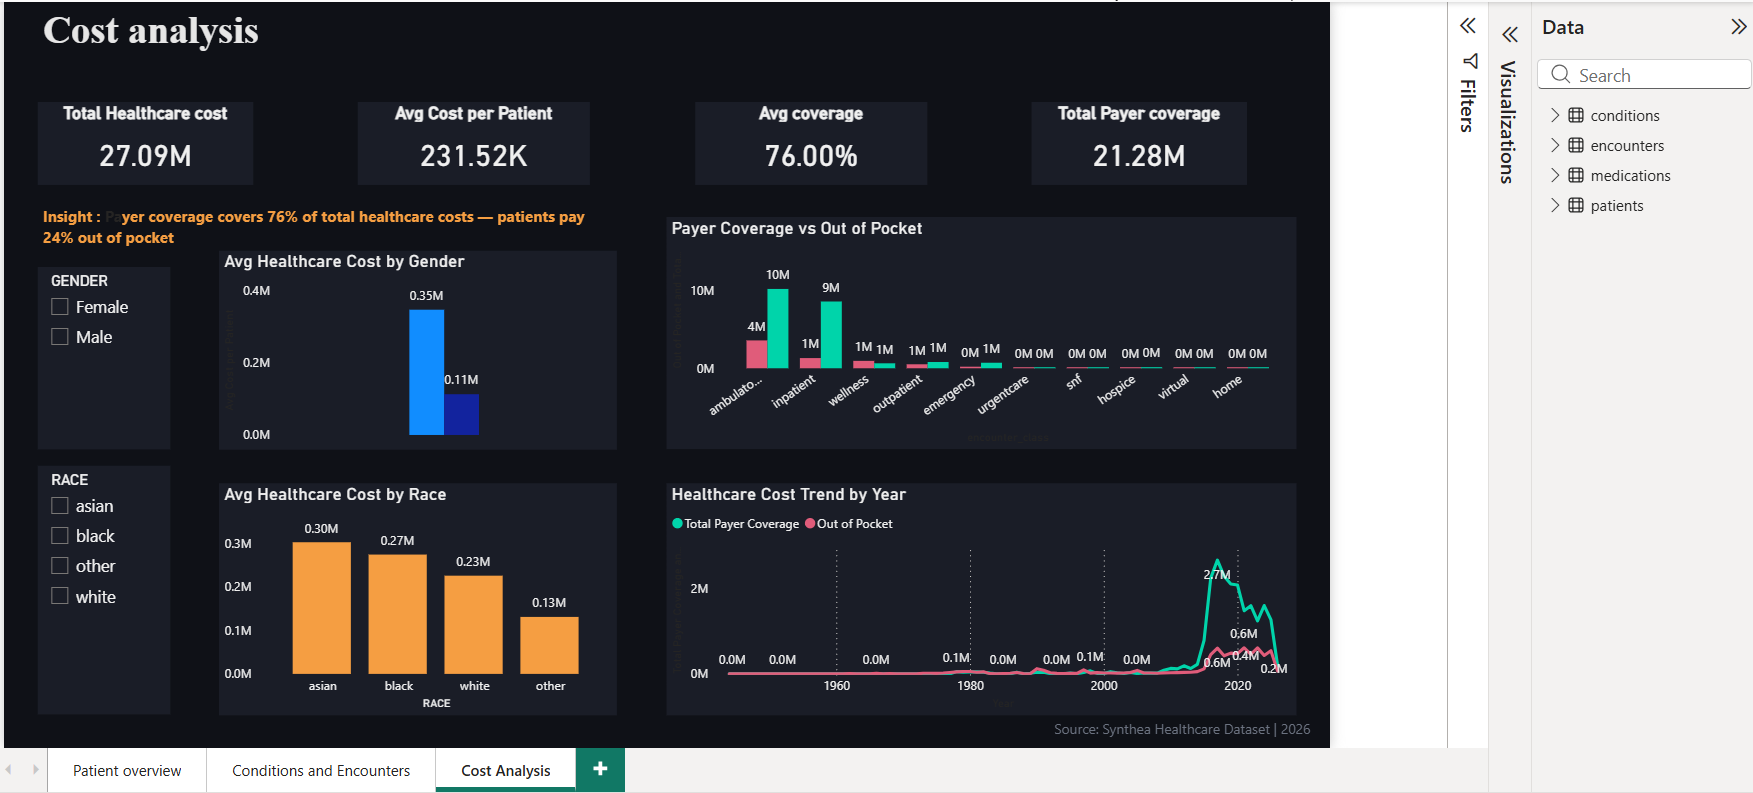

The page's visual inventory and layout, read from the dashboard file:
{"tool":"powerbi","page":{"name":"Cost Analysis","canvas":[1280,720],"ordinal":2},"visuals":[{"type":"textbox","box":[32,0,432,64],"z":0},{"type":"card","title":"Total Healthcare cost","fields":{"Values":["encounters.Total Healthcare Cost"]},"box":[32,96,208,80],"z":1000},{"type":"card","title":"Avg Cost per Patient","fields":{"Values":["encounters.Avg Cost per Patient"]},"box":[341.3,96,224,80],"z":2000},{"type":"card","title":"Total Payer coverage","fields":{"Values":["encounters.Total Payer Coverage"]},"box":[992,96,208,80],"z":3000},{"type":"card","title":"Avg coverage","fields":{"Values":["encounters.Avg Coverage %"]},"box":[666.7,96,224,80],"z":4000},{"type":"clusteredColumnChart","title":"Avg Healthcare Cost by Gender","fields":{"Y":["encounters.Avg Cost per Patient"],"Series":["patients.GENDER"]},"box":[208,240,384,192],"z":5000},{"type":"columnChart","title":"Avg Healthcare Cost by Race","fields":{"Y":["encounters.Avg Cost per Patient"],"Category":["patients.RACE"]},"box":[208,464,384,224],"z":6000},{"type":"clusteredColumnChart","title":"Payer Coverage vs Out of Pocket","fields":{"Y":["encounters.Out of Pocket","encounters.Total Payer Coverage"],"Category":["encounters.encounter_class"]},"box":[640,208,608,224],"z":7000},{"type":"lineChart","title":"Healthcare Cost Trend by Year","fields":{"Category":["encounters.visit_start.Variation.Date Hierarchy.Year"],"Y":["encounters.Total Payer Coverage","encounters.Out of Pocket"]},"box":[640,464,608,224],"z":8000},{"type":"textbox","box":[32,192,560,80],"z":11000},{"type":"textbox","box":[1008,688,272,32],"z":11001},{"type":"slicer","fields":{"Values":["patients.RACE"]},"box":[32,448,128,240],"z":11002},{"type":"slicer","fields":{"Values":["patients.GENDER"]},"box":[32,256,128,176],"z":11003}]}

Visuals, with their boxes on the page's 1280x720 design canvas (x1, y1, x2, y2). These are canvas units, not pixel positions in the 1753x793 screenshot, which may show the page scaled, cropped or inside an application window:
textbox: select_region(32, 0, 464, 64)
"Total Healthcare cost" card: select_region(32, 96, 240, 176)
"Avg Cost per Patient" card: select_region(341, 96, 565, 176)
"Total Payer coverage" card: select_region(992, 96, 1200, 176)
"Avg coverage" card: select_region(667, 96, 891, 176)
"Avg Healthcare Cost by Gender" clusteredColumnChart: select_region(208, 240, 592, 432)
"Avg Healthcare Cost by Race" columnChart: select_region(208, 464, 592, 688)
"Payer Coverage vs Out of Pocket" clusteredColumnChart: select_region(640, 208, 1248, 432)
"Healthcare Cost Trend by Year" lineChart: select_region(640, 464, 1248, 688)
textbox: select_region(32, 192, 592, 272)
textbox: select_region(1008, 688, 1280, 720)
slicer - patients.RACE: select_region(32, 448, 160, 688)
slicer - patients.GENDER: select_region(32, 256, 160, 432)
